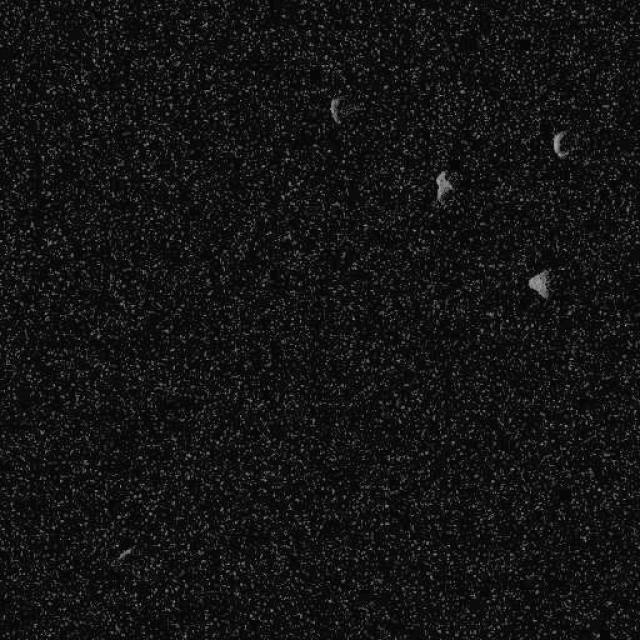D2: (526, 268, 550, 300), (434, 168, 454, 204), (551, 128, 569, 158), (328, 95, 342, 124)
